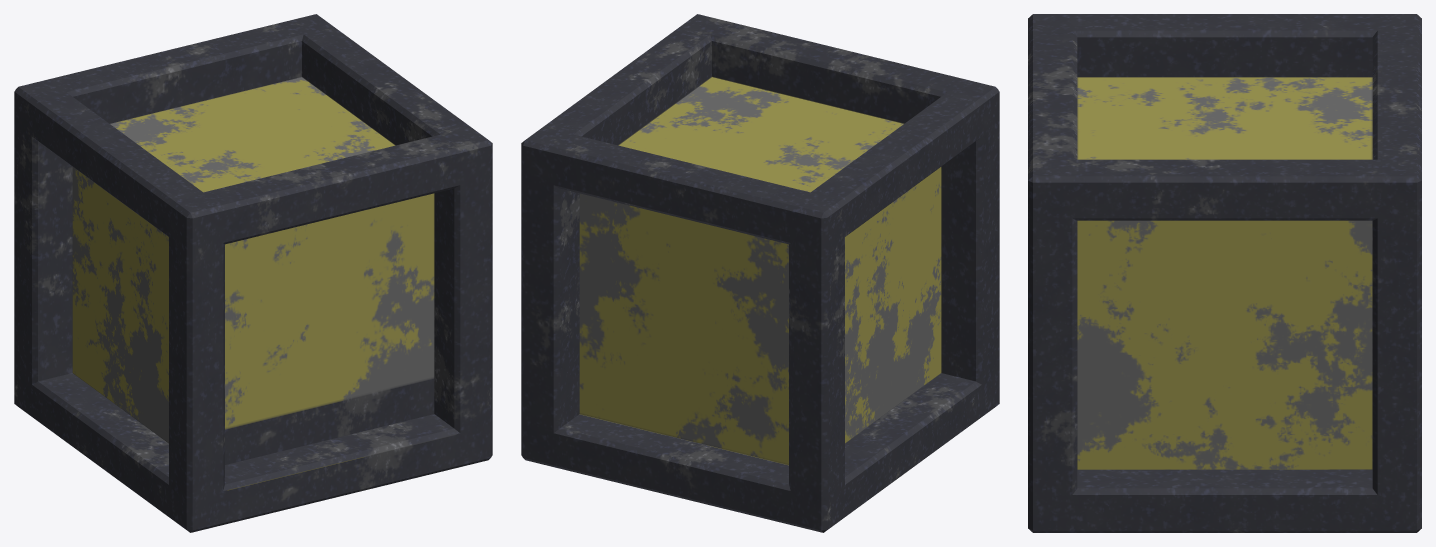
The model's file is Power2.fbx.
3 views of the same model, side by side, from view 1: azimuth 30°, elevation 25°; view 2: azimuth 150°, elevation 25°; view 3: azimuth 270°, elevation 25° (orthographic). The views are drawn at different scales.
Visible parts, largest first — view 1: Cube; view 2: Cube; view 3: Cube.
Boxes of the visible parts, x1,y1,x2,y2 form: Cube: (14, 14, 492, 532); Cube: (521, 14, 999, 532); Cube: (1028, 14, 1421, 532).
Size of the model in its own units: 200 by 200 by 200.
